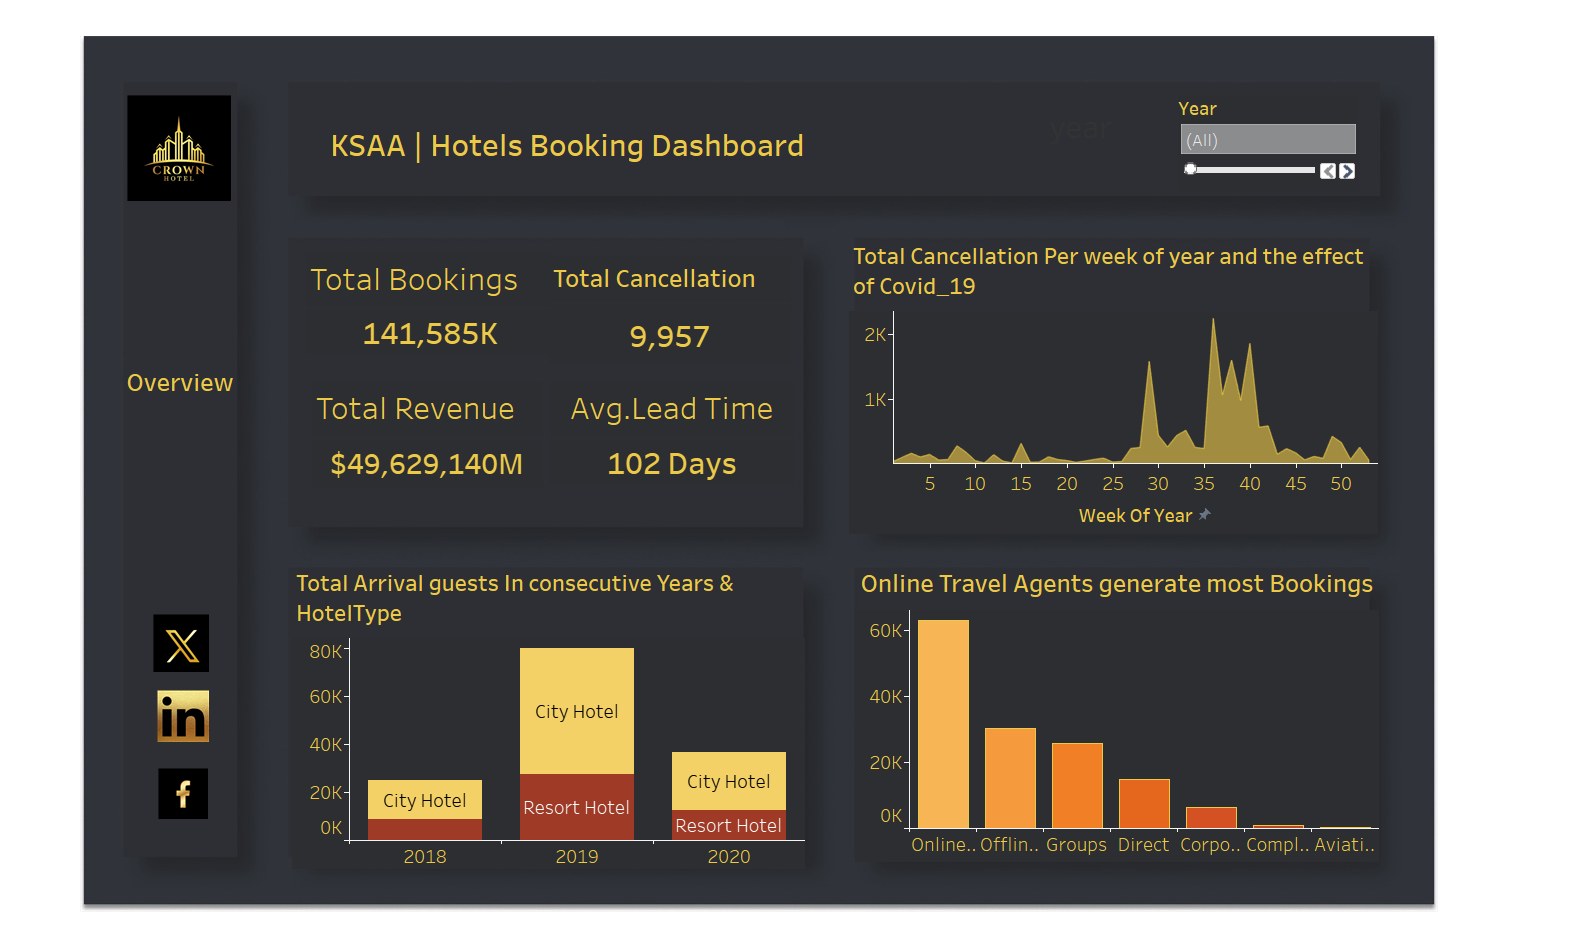

This screenshot's page, from the dashboard's own definition file:
{"tool":"powerbi","page":{"name":"Overview","canvas":[1280,720],"ordinal":0},"visuals":[{"type":"shape","box":[940.6,0,339.4,720.8],"z":0},{"type":"shape","box":[0,0,87.3,720.8],"z":1000},{"type":"textbox","box":[103.8,17.7,396.2,49.2],"z":2000},{"type":"pageNavigator","box":[103.3,68.3,820,45],"z":3000},{"type":"lineChart","title":"Revenue by Month","fields":{"Y":["# Measures.Gross Revenue","# Measures.Net Revenue"],"Category":["DimDate.MonthName"]},"box":[955.2,58.2,310.3,176.2],"z":4000},{"type":"areaChart","title":"Repeated Guests by Month","fields":{"Category":["DimDate.MonthName"],"Y":["# Measures.Repeated Guests"]},"box":[955.2,496.2,310.3,176.2],"z":5000},{"type":"lineChart","title":"Reservations by Month","fields":{"Category":["DimDate.MonthName"],"Y":["# Measures.Total Reservations","# Measures.Total Canceled Reservations"]},"box":[955.2,277.2,310.3,176.2],"z":6000},{"type":"columnChart","title":"Net Revenue by Room Type","fields":{"Category":["DIM_Room_Type.Room_Type"],"Y":["# Measures.Net Revenue"]},"box":[108.3,400,815,301.7],"z":7000},{"type":"cardVisual","fields":{"Data":["# Measures.Total Reservations","# Measures.Total Canceled Reservations"]},"box":[103.3,130,421.7,126.7],"z":8000},{"type":"image","box":[5.7,10,75.7,65.7],"z":9000},{"type":"donutChart","title":"Revenue by Service","fields":{"Category":["DIM_Service.Service_Type"],"Y":["# Measures.Service Revenue"]},"box":[536,130,388,254],"z":10000},{"type":"cardVisual","fields":{"Data":["# Measures.Net Revenue","# Measures.Guest in Hotel"]},"box":[108.3,270,416.7,113.3],"z":11000},{"type":"image","box":[21.3,103.5,45.4,42.5],"z":12000}]}

Visuals, with their boxes on the page's 1280x720 design canvas (x1, y1, x2, y2). These are canvas units, not pixel positions in the 1592x949 screenshot, which may show the page scaled, cropped or inside an application window:
shape: box(941, 0, 1280, 721)
shape: box(0, 0, 87, 721)
textbox: box(104, 18, 500, 67)
pageNavigator: box(103, 68, 923, 113)
"Revenue by Month" lineChart: box(955, 58, 1266, 234)
"Repeated Guests by Month" areaChart: box(955, 496, 1266, 672)
"Reservations by Month" lineChart: box(955, 277, 1266, 453)
"Net Revenue by Room Type" columnChart: box(108, 400, 923, 702)
cardVisual - # Measures.Total Reservations x # Measures.Total Canceled Reservations: box(103, 130, 525, 257)
image: box(6, 10, 81, 76)
"Revenue by Service" donutChart: box(536, 130, 924, 384)
cardVisual - # Measures.Net Revenue x # Measures.Guest in Hotel: box(108, 270, 525, 383)
image: box(21, 104, 67, 146)
